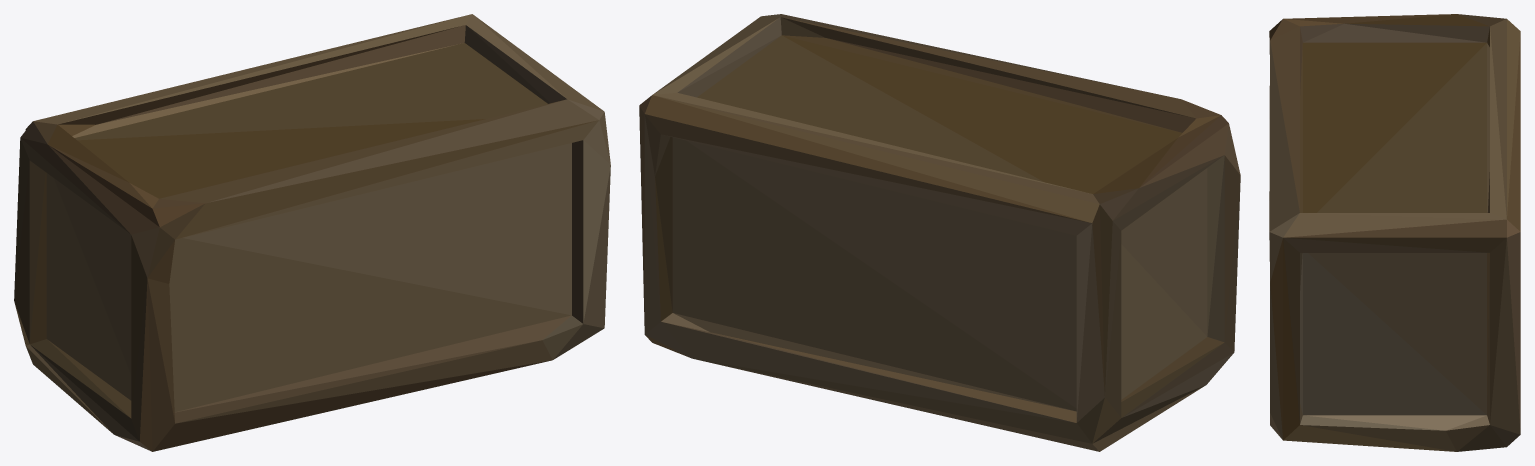
Rendered from Prop-CrateC.fbx.
3 renders of one model, left to right at view 1: azimuth 30°, elevation 25°; view 2: azimuth 150°, elevation 25°; view 3: azimuth 270°, elevation 25°, orthographic. The views are drawn at different scales.
Visible parts, largest first — view 1: Prop-CrateC; view 2: Prop-CrateC; view 3: Prop-CrateC.
Part boxes in pixels (x1,y1,x2,y2): Prop-CrateC: (14, 14, 610, 451); Prop-CrateC: (639, 14, 1240, 451); Prop-CrateC: (1269, 14, 1520, 451).
Size of the model in its own units: 200 by 100 by 100.
